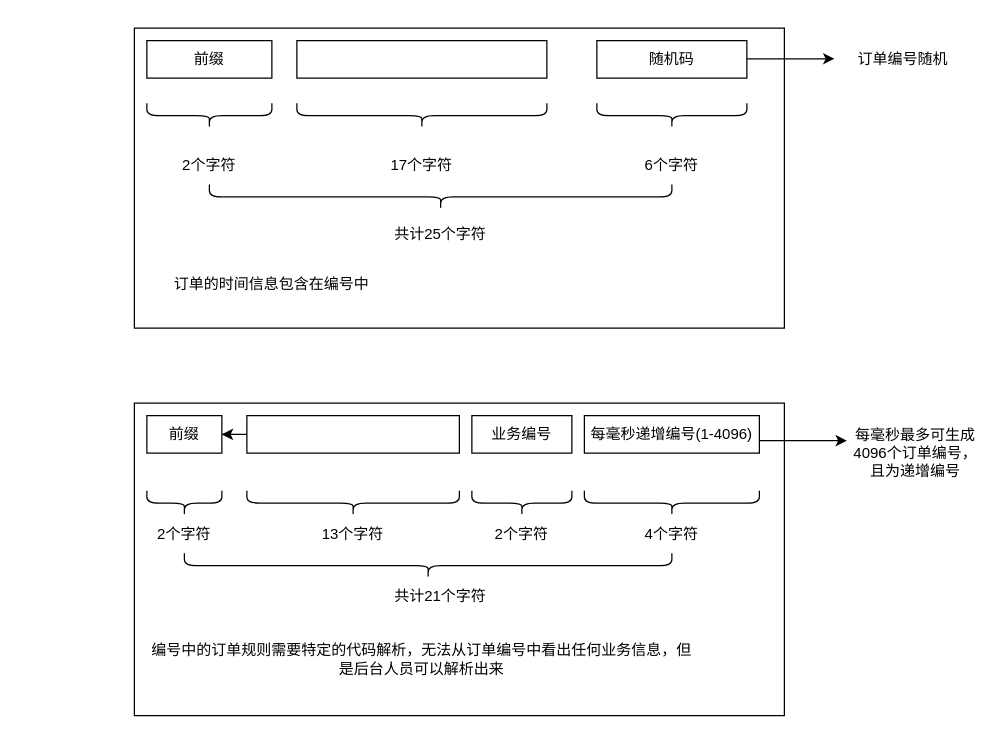
Image size: 1005x738. Some labels were removed from this diagram. Each missing label, with the centre of its shape:
年月日时分秒+毫秒: point (421, 58)
当前时间戳的毫秒数: point (352, 433)
